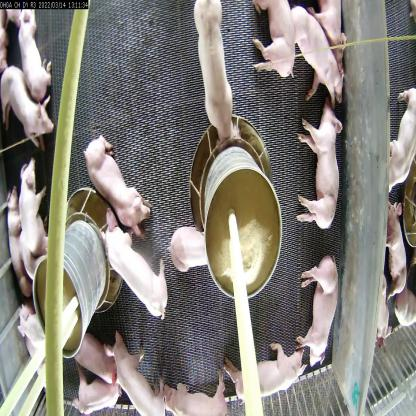Pig: (185, 0, 247, 140), (78, 125, 152, 240), (99, 206, 172, 319), (0, 44, 64, 156), (300, 96, 348, 234), (280, 7, 349, 95), (113, 327, 180, 416), (242, 0, 299, 90), (14, 21, 65, 117), (229, 350, 314, 407), (296, 250, 336, 370), (0, 166, 28, 308), (166, 359, 236, 415), (15, 157, 57, 247), (169, 216, 218, 285), (68, 319, 119, 382), (64, 370, 132, 415)
